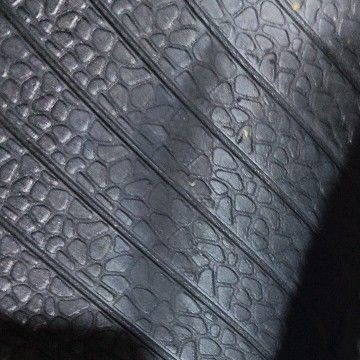CBU: (130, 59, 224, 318)
